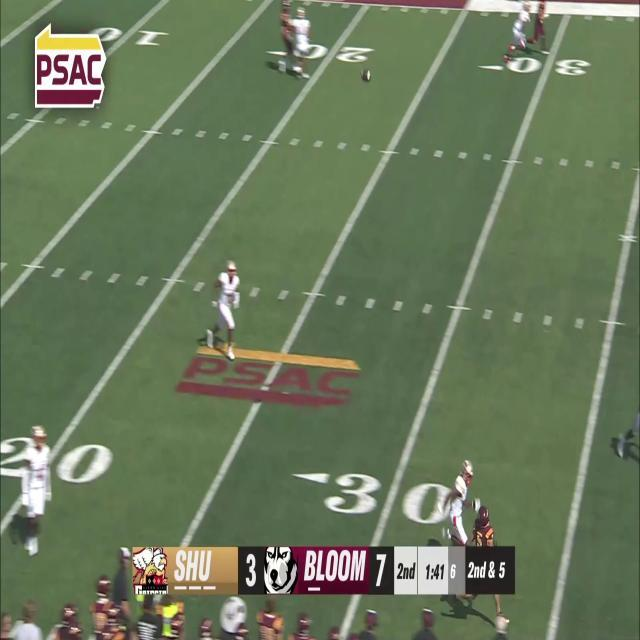football: (360, 67, 372, 83)
